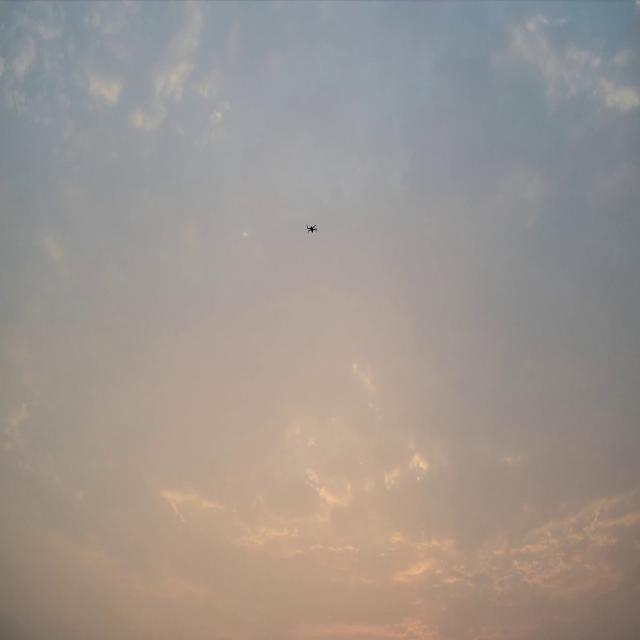UAV: (306, 224, 319, 233)
